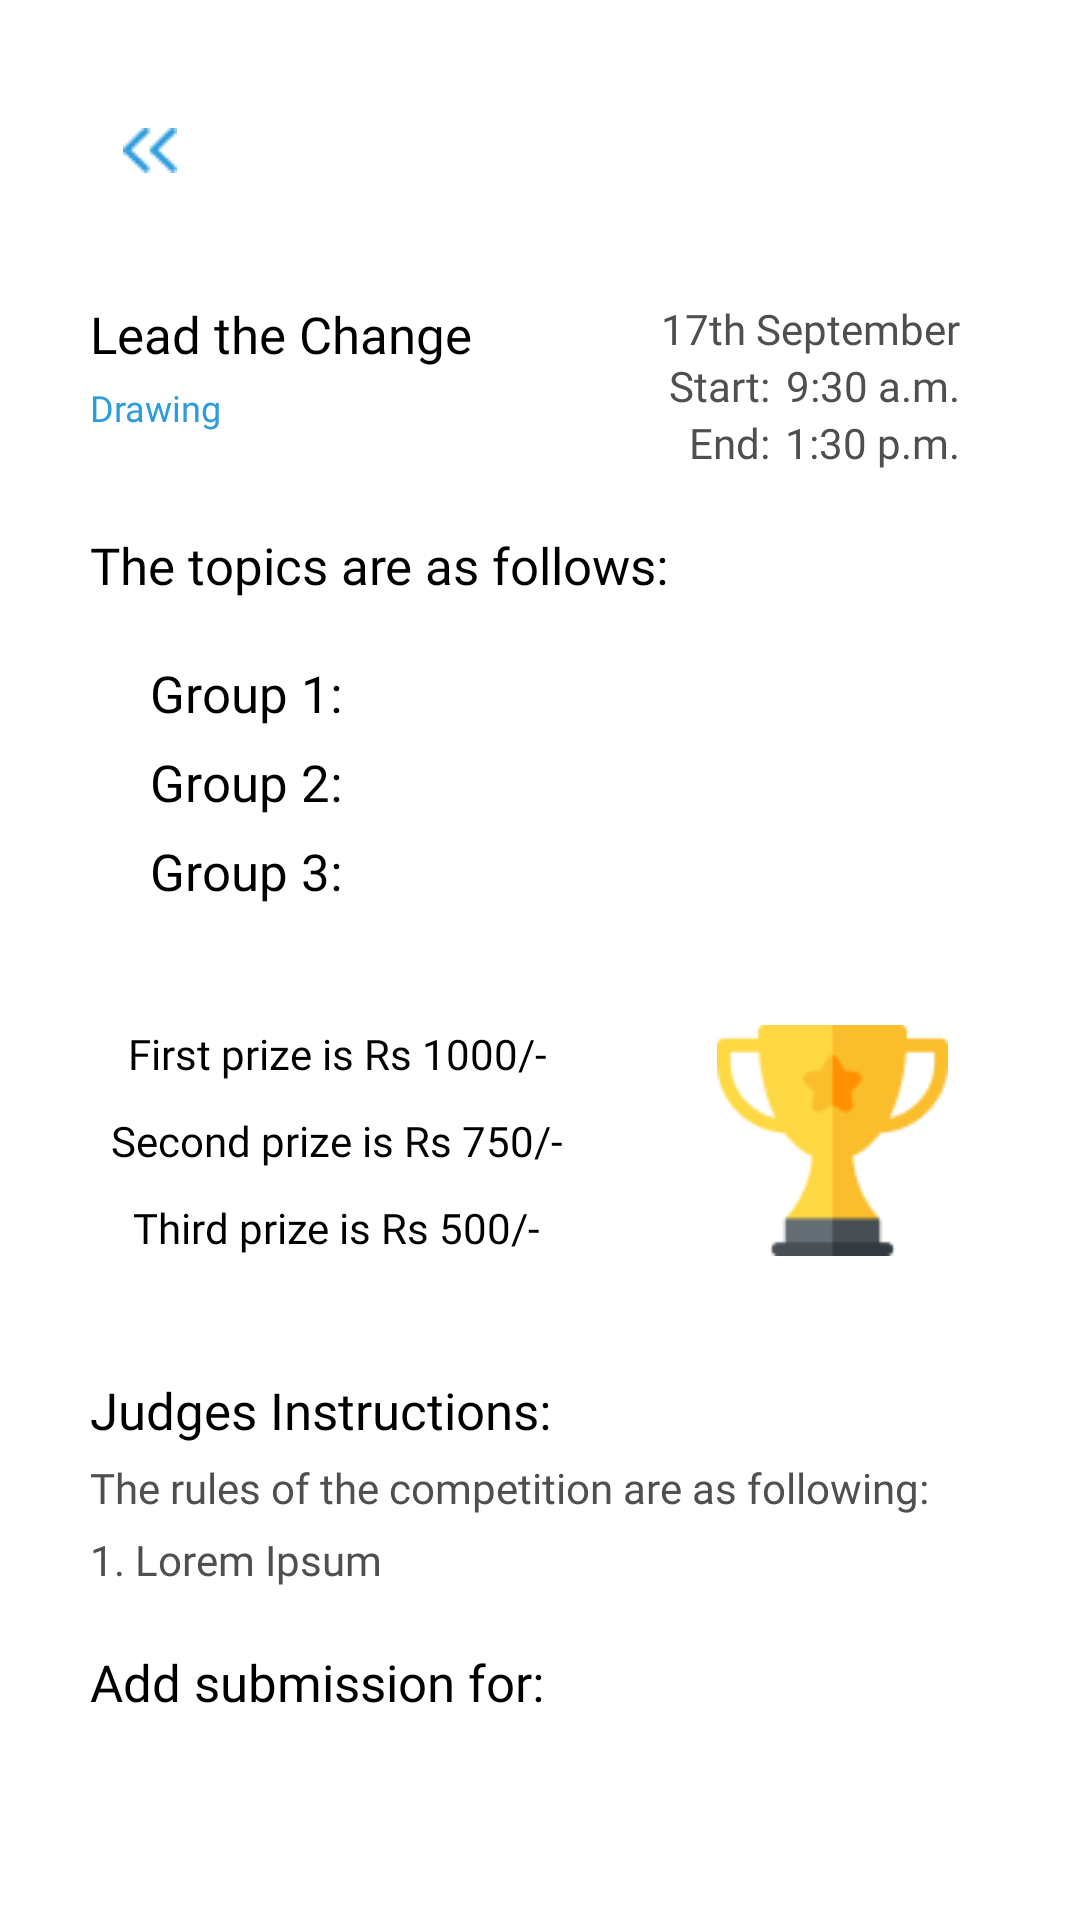

Locate icon controls on the screen. Image size 1080 × 1920, boxes as (x1, y1, x2, y2).
back: (123, 128, 177, 173)
trophy: (717, 1025, 948, 1256)
